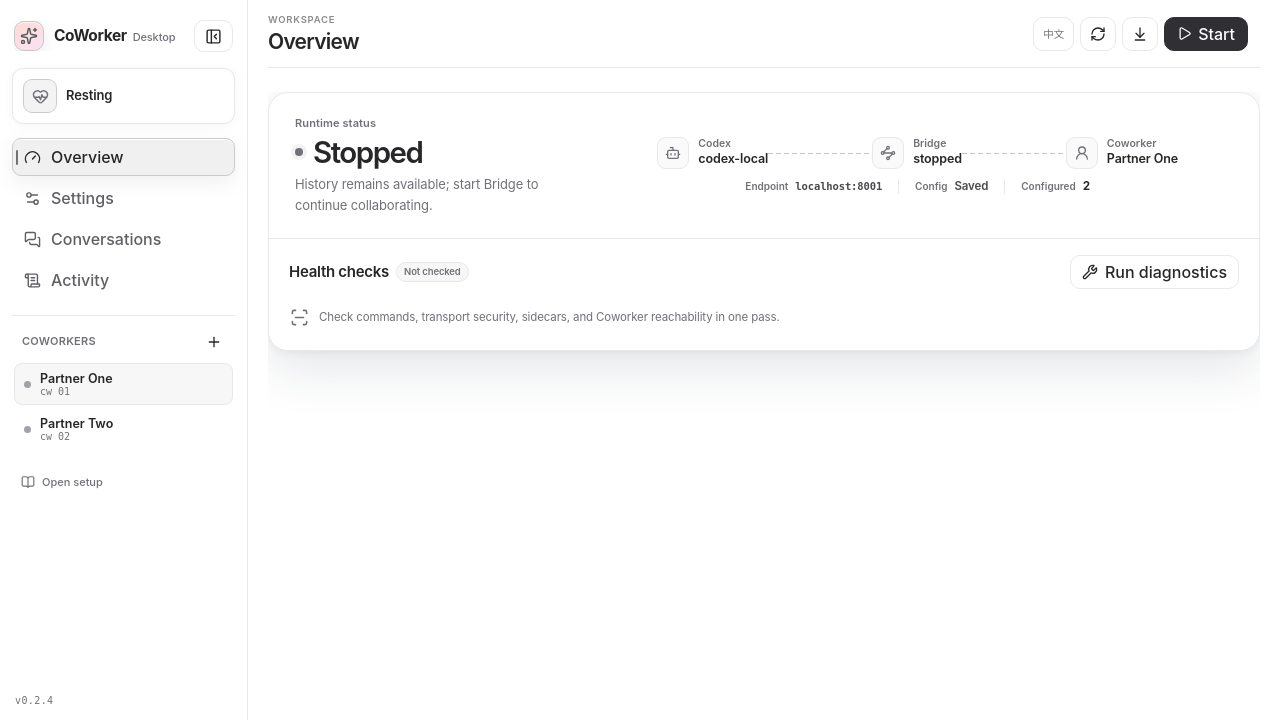
Test: App backend operation wiring › checks and installs desktop updates through backend wrappers
The image size is (1280, 720).
Expected: the text "codex-local" is shown, [698,151,768,168]
Click the button named "Check for desktop updates".
click(1140, 34)  # box [1122,16,1158,50]
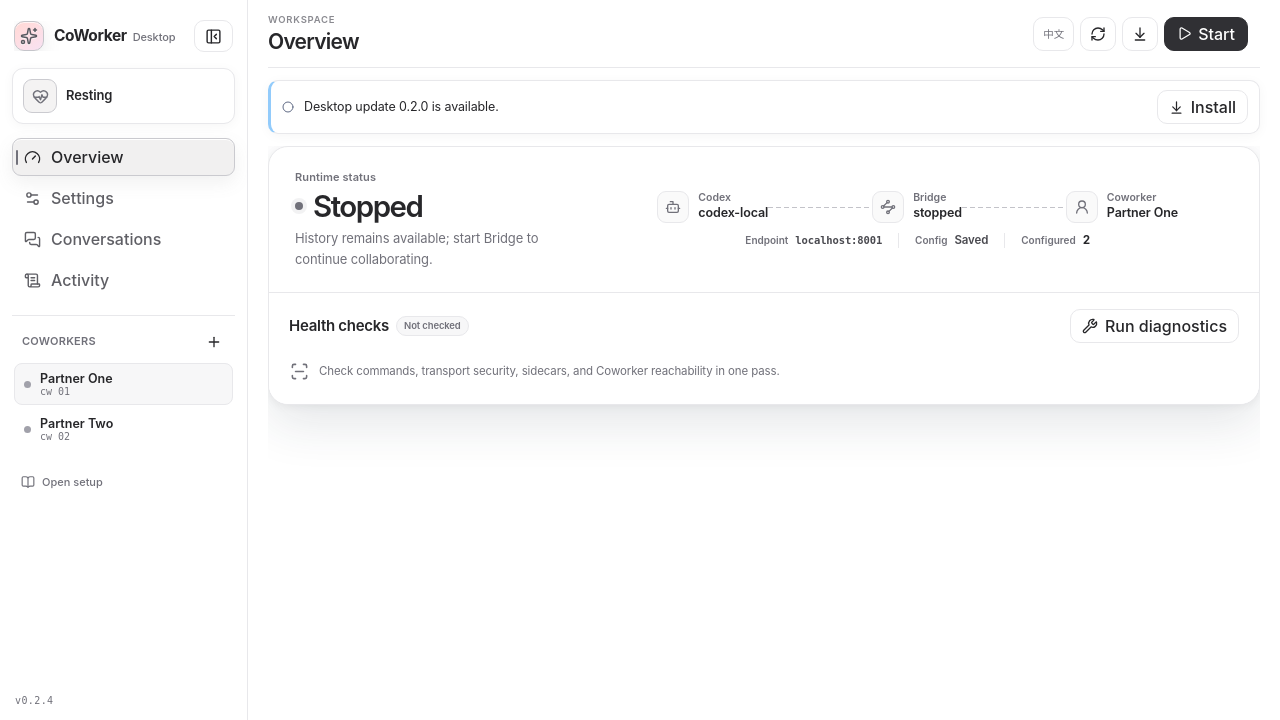
Result: the text "Desktop update 0.2.0 is available." is shown at [304,99,499,114]
Click the button "Install".
click(1202, 107)  # box [1157,90,1248,124]
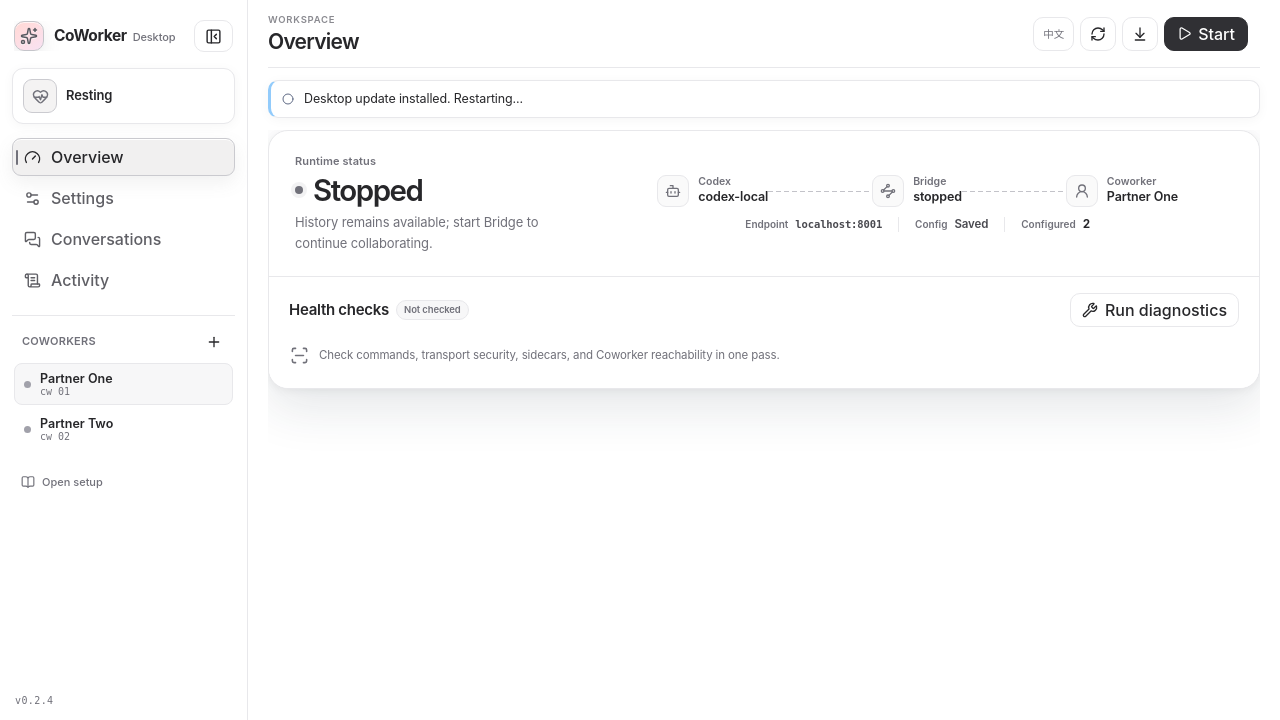
Result: the text "Desktop update installed. Restarting..." is shown at [304,91,523,106]
